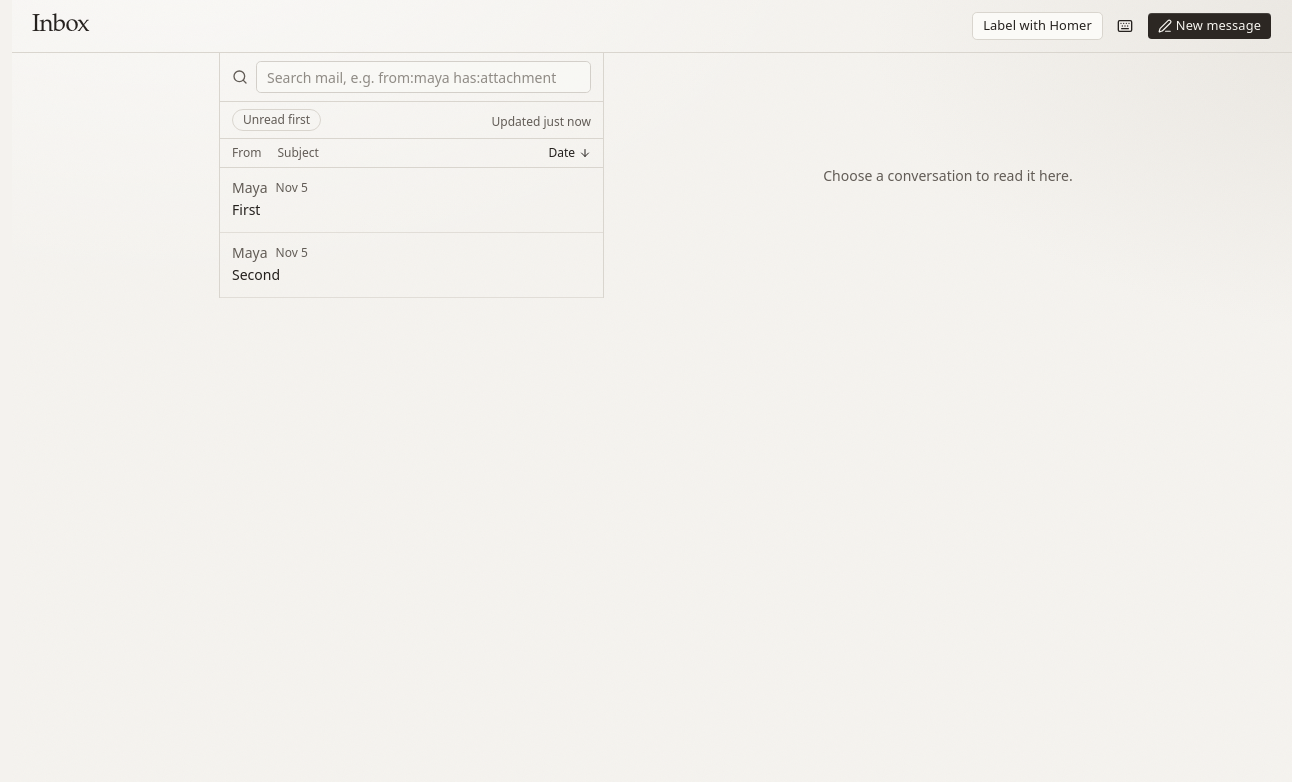
Test: InboxPage drafts › keeps an unsent reply when another thread is opened
This screenshot has width=1292, height=782.
Later steps or results of the test are not shown.
Click the button with test id "thread-t1" at (250, 188), box [220, 168, 603, 233]
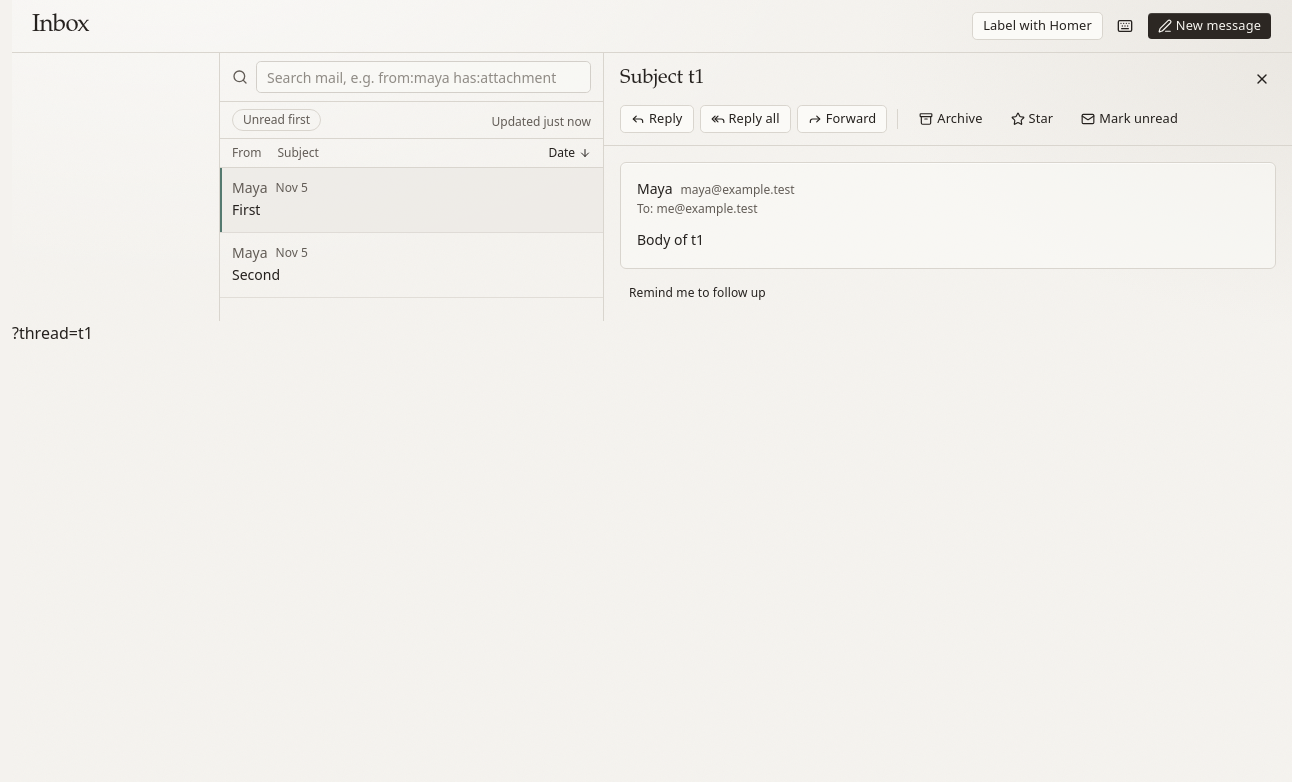
Click the button "Reply" at (657, 119), box [620, 105, 694, 133]
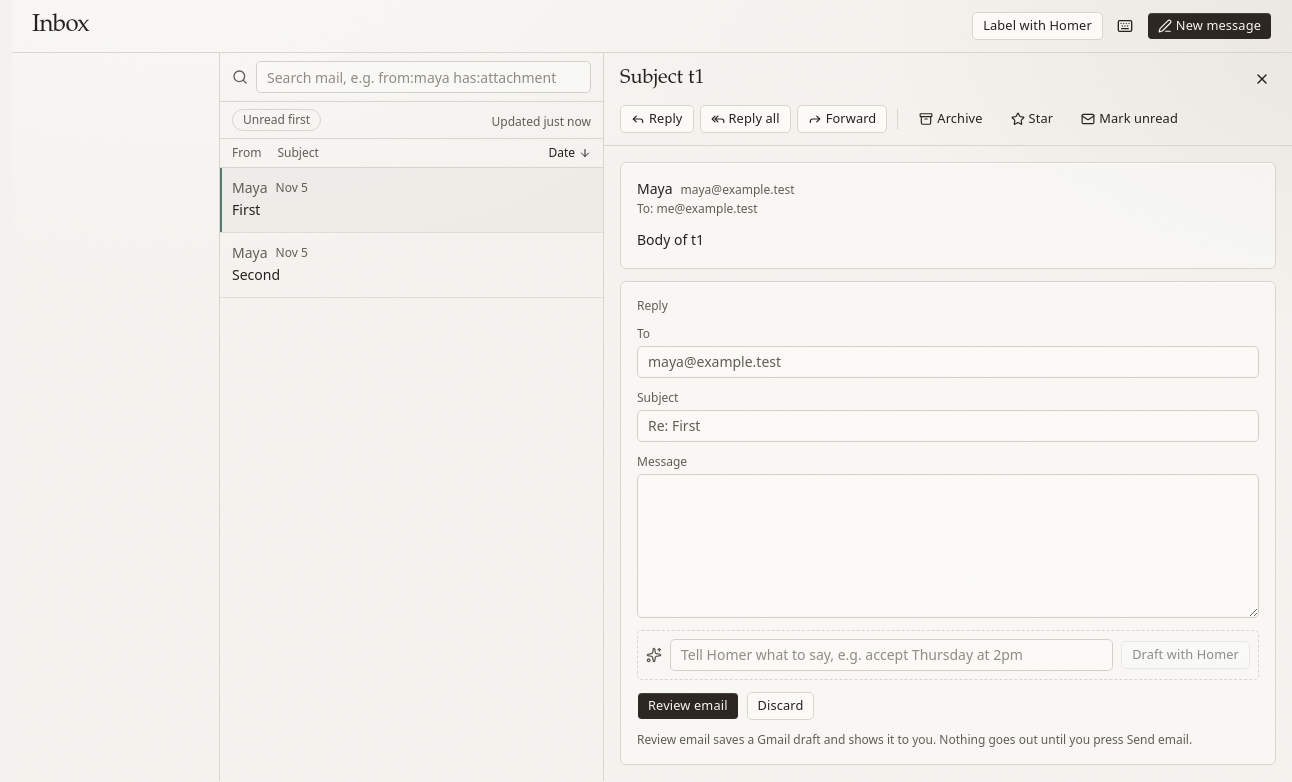
Type "Thursday works for me." into the text box labelled "Message" at (948, 546), box [637, 474, 1259, 618]
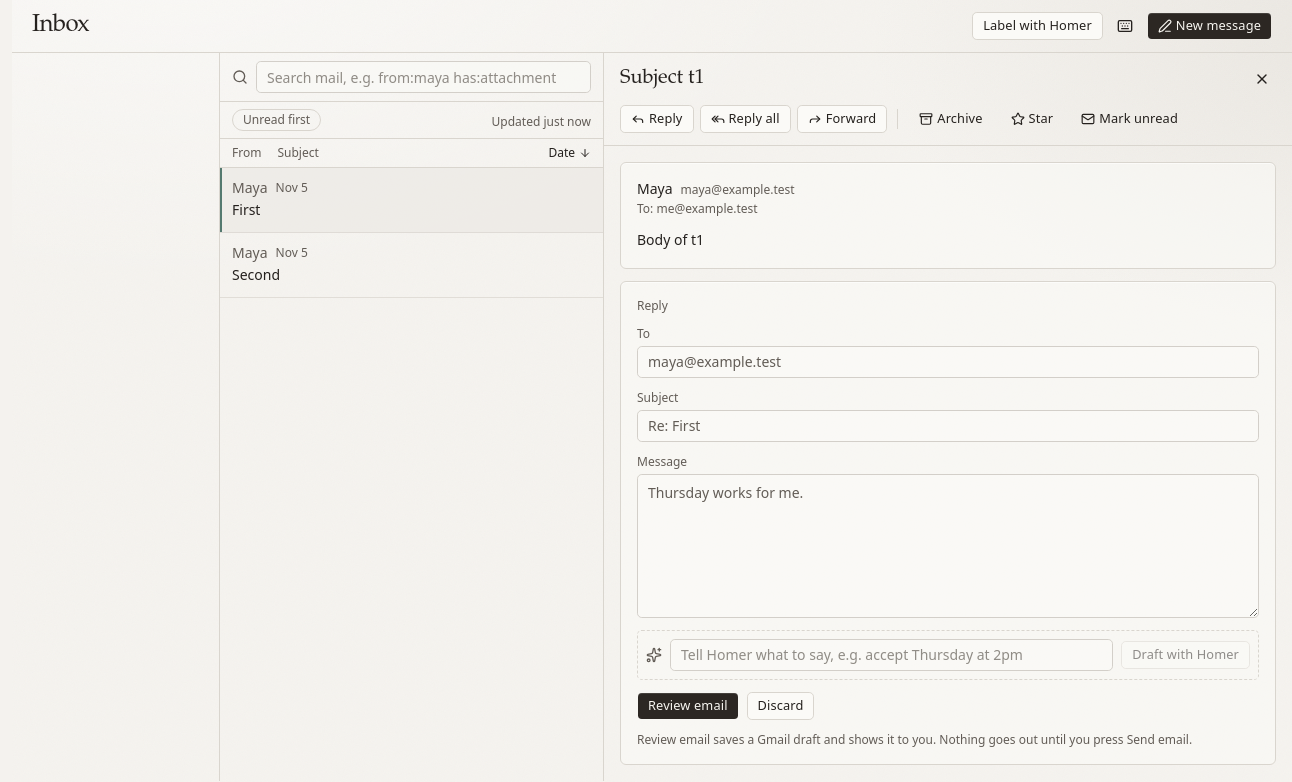
Click the button with test id "thread-t2" at (250, 252), box [220, 233, 603, 298]
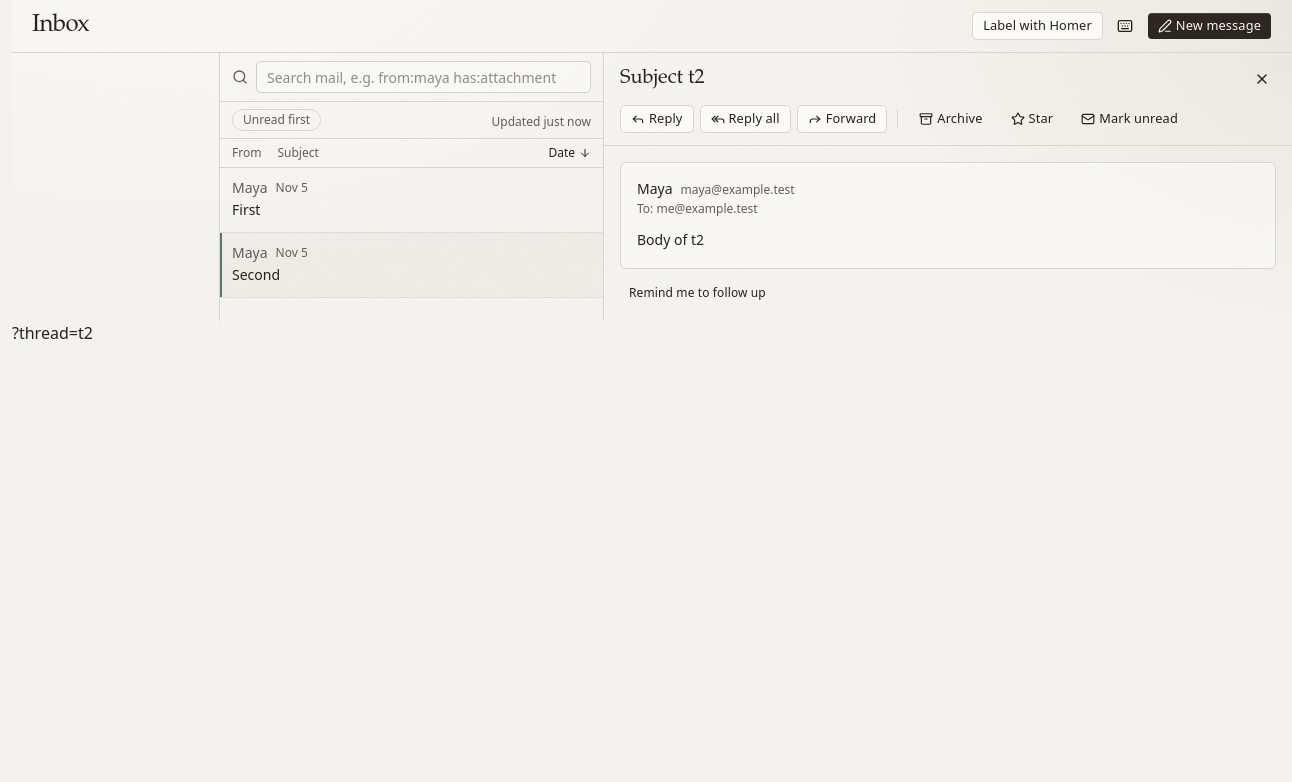
Expected: the text "Body of t2" is shown, [637, 230, 704, 249]
Expected: the form with test id "composer" is gone
Click the button with test id "thread-t1" at (250, 188), box [220, 168, 603, 233]
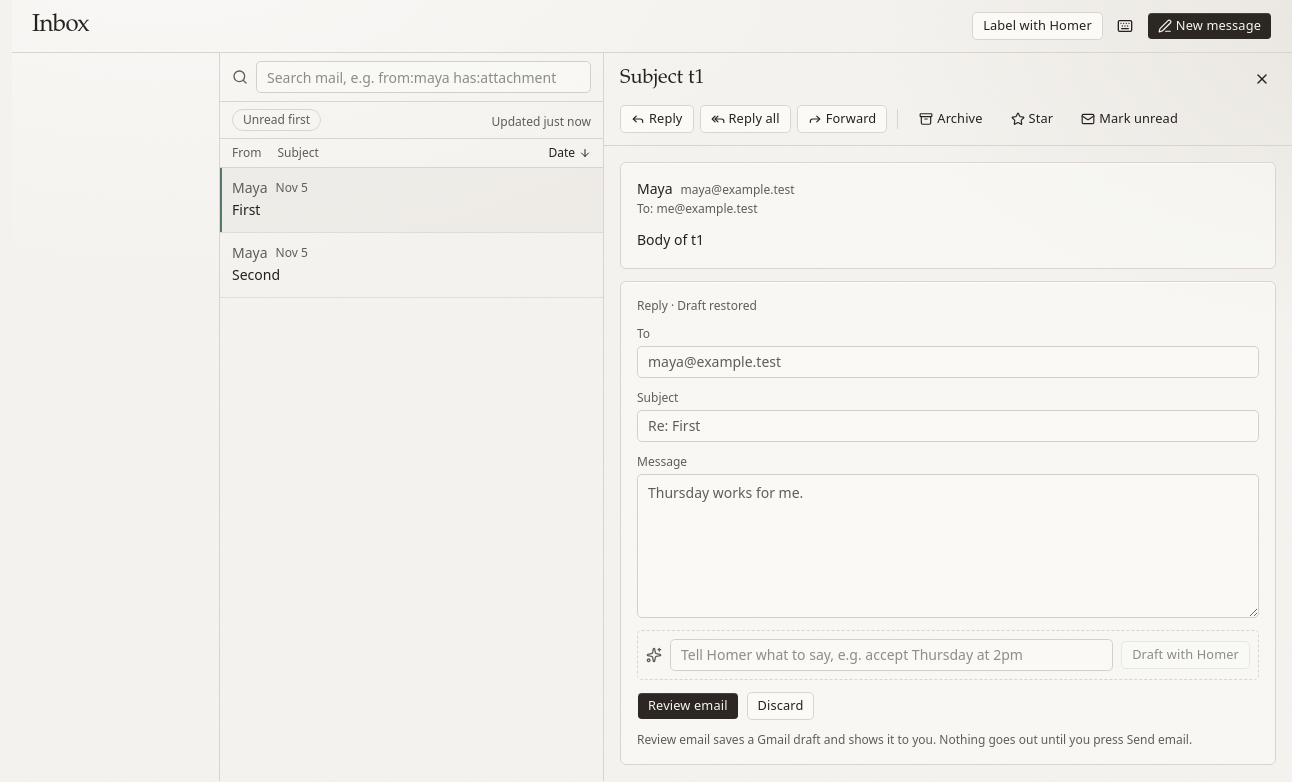
Expected: the text box showing "Thursday works for me." is shown, [637, 474, 1259, 618]
Expected: the text "· Draft restored" is shown, [668, 297, 757, 314]
